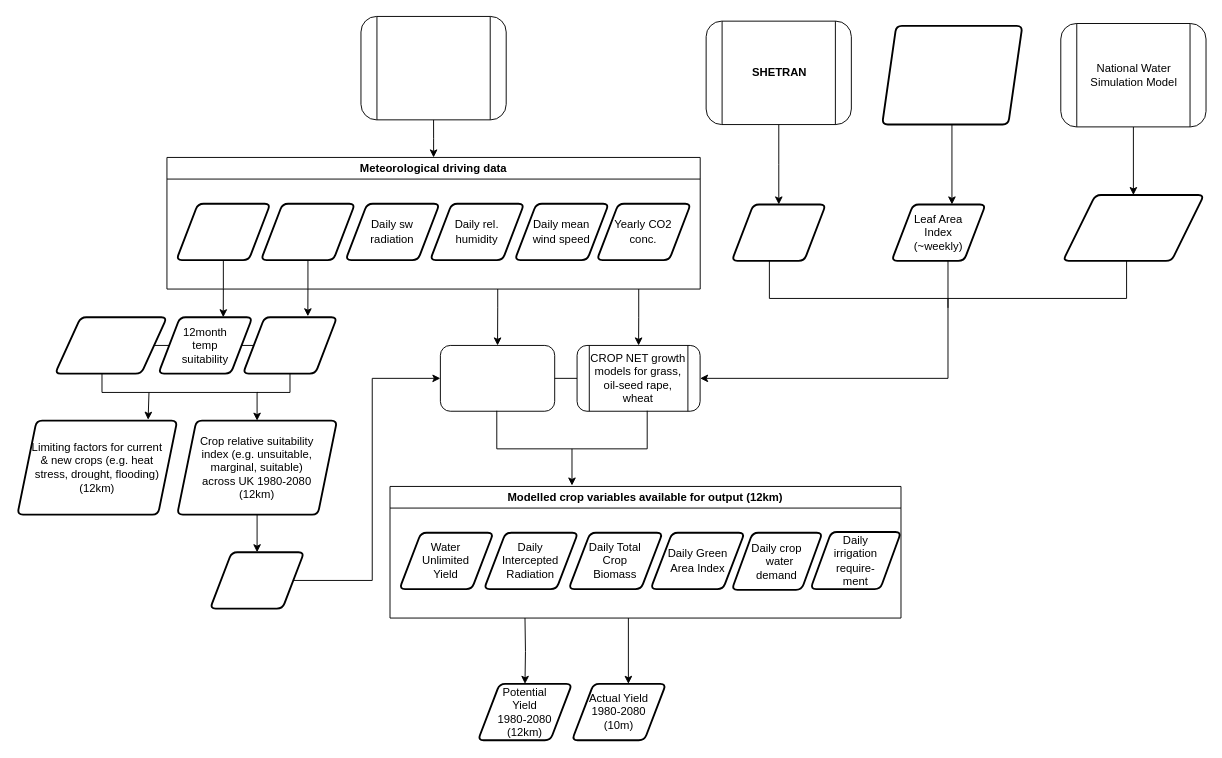
The diagram is 1222 pixels wide and 758 high, and some of its shapes have lost their labels. Each missing label, with the box of its shape:
12month rainfall suitability: (242, 316, 337, 374)
Availability of water for irrigation: (1062, 194, 1204, 261)
CROP NET growth models for new crops: (439, 345, 555, 411)
Daily precip (total): (260, 202, 355, 261)
Daily temp mean/min/ max: (175, 202, 271, 261)
FAO-Ecocrop database: (54, 316, 167, 374)
Future crop rotations: (209, 551, 305, 609)
Sentinel 2 NDVI satellite (10m): (881, 24, 1023, 125)
Soil Available Water Capacity: (730, 203, 826, 261)
UKCP18 12km projections 1981-2080, daily/monthly, 12variations: (360, 16, 506, 120)
